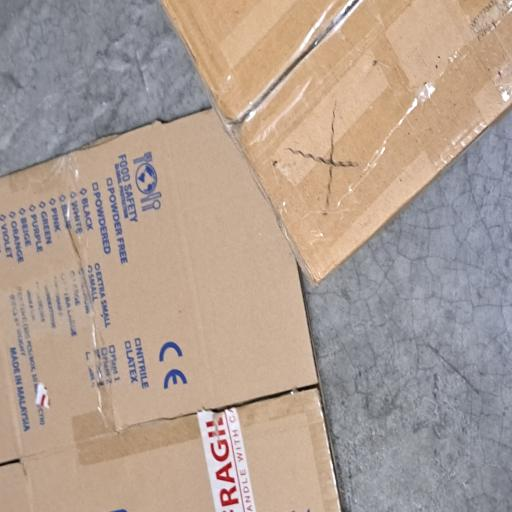cardboard: (0, 0, 301, 454), (174, 210, 383, 512)
